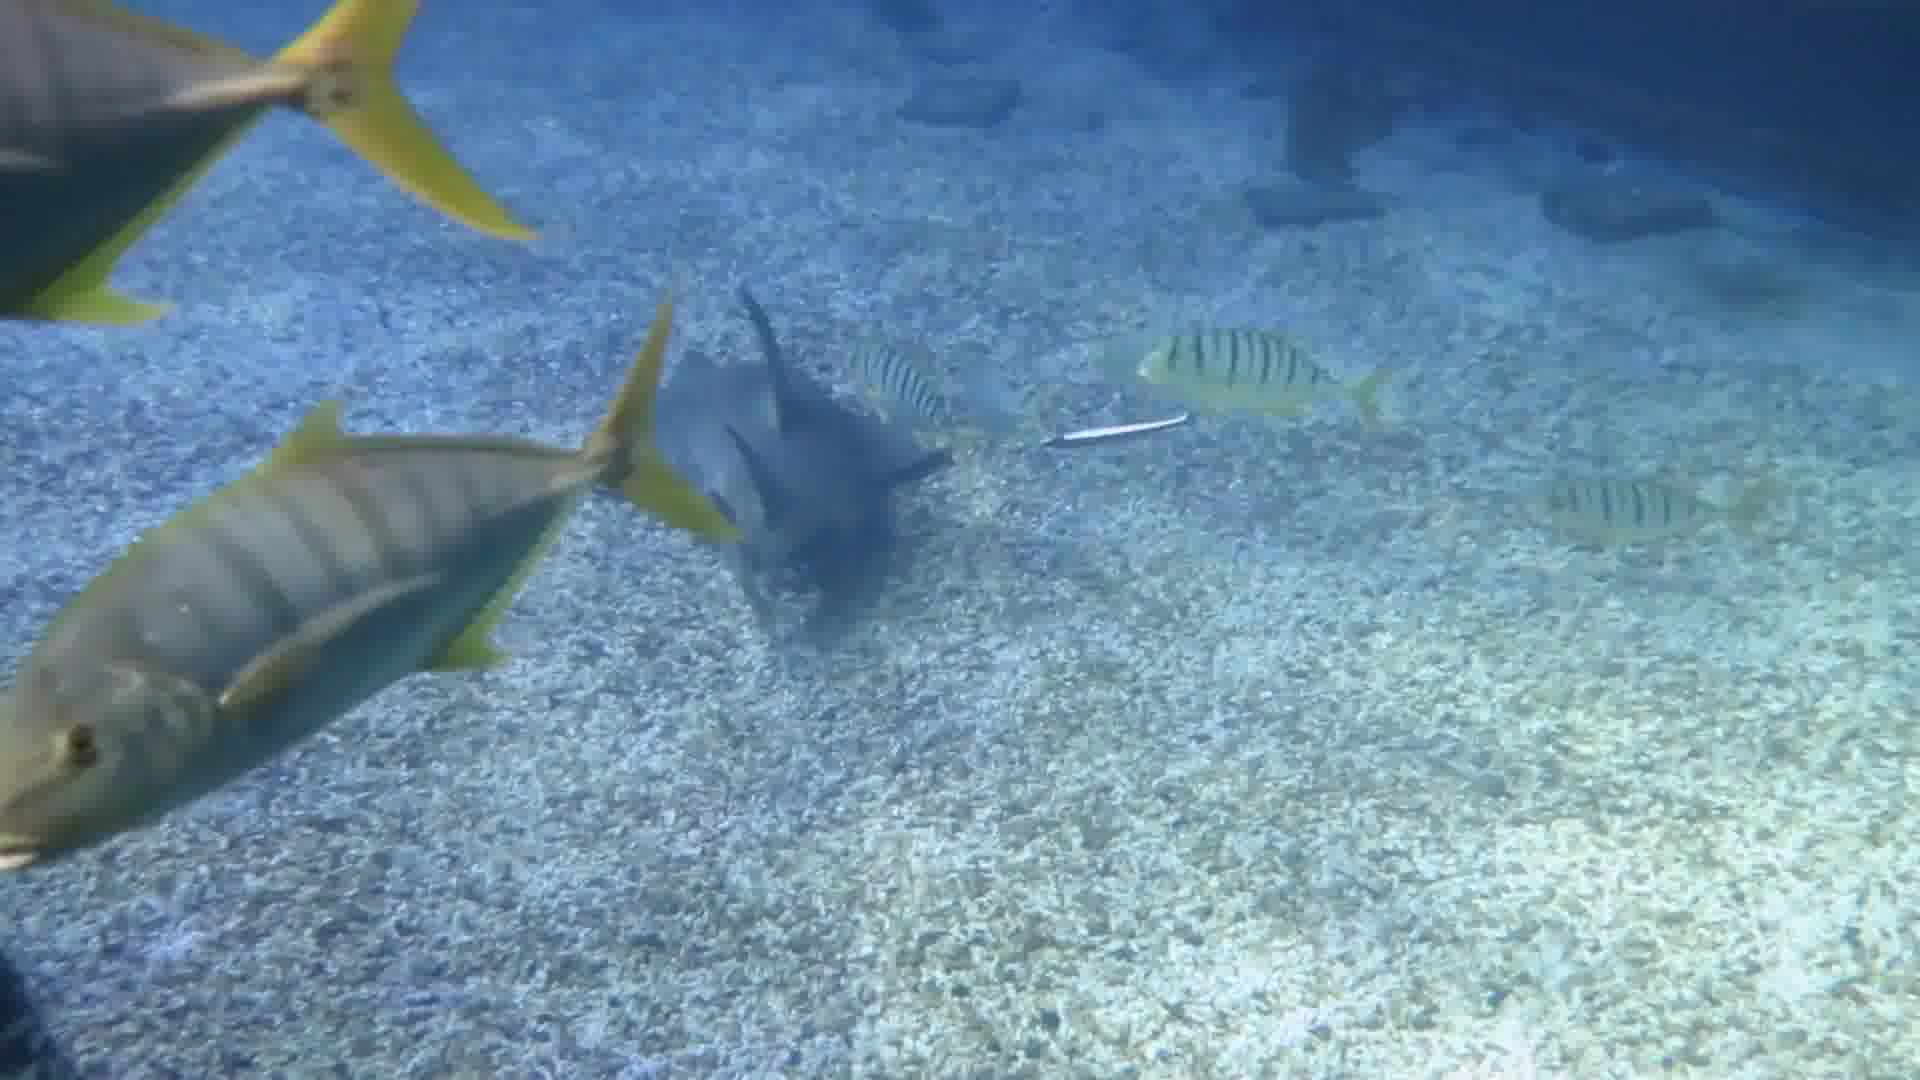Rhychobatus djiddensis: (597, 291, 926, 735)
